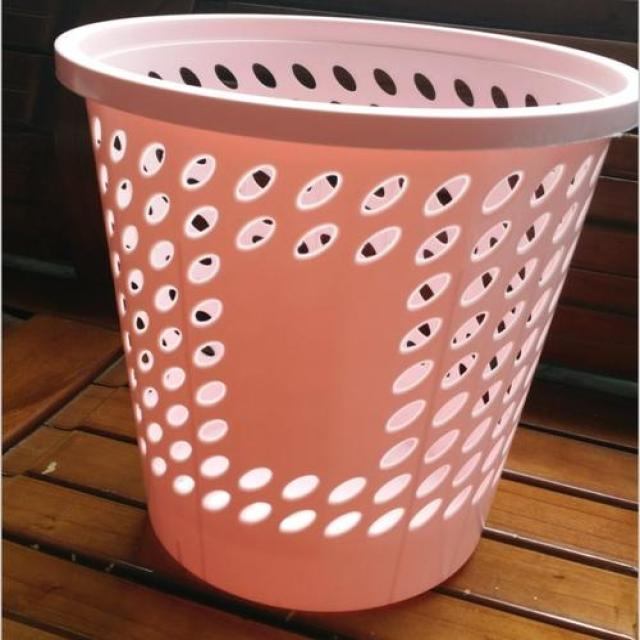dustbin: (48, 12, 640, 617)
